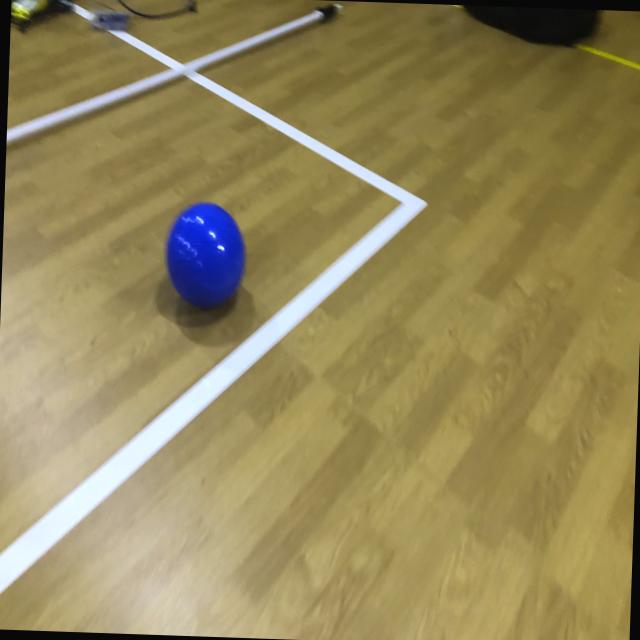blue_ball: (167, 198, 245, 311)
